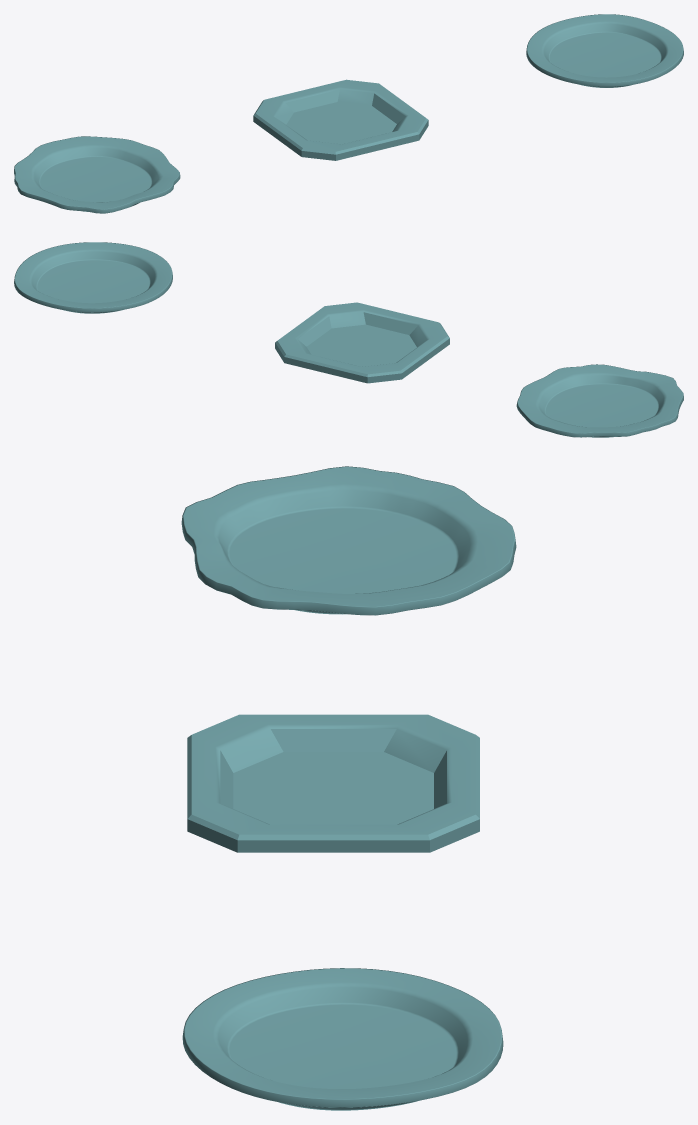
The model's file is sm_plates.fbx.
The picture shows the model from 3 angles, top to bottom: view 1: azimuth 30°, elevation 25°; view 2: azimuth 150°, elevation 25°; view 3: azimuth 270°, elevation 25°; orthographic projection. The views are drawn at different scales.
Visible parts, largest first — view 1: SM_PLATE_IA, SM_PLATE_ROCK, SM_PLATE_HUMAN; view 2: SM_PLATE_IA, SM_PLATE_ROCK, SM_PLATE_HUMAN; view 3: SM_PLATE_ROCK, SM_PLATE_IA, SM_PLATE_HUMAN.
Boxes of the visible parts, x1,y1,x2,y2 form: SM_PLATE_IA: [253, 79, 428, 160]; SM_PLATE_ROCK: [14, 136, 180, 213]; SM_PLATE_HUMAN: [526, 14, 683, 87]; SM_PLATE_IA: [275, 302, 449, 383]; SM_PLATE_ROCK: [516, 364, 683, 437]; SM_PLATE_HUMAN: [14, 242, 172, 313]; SM_PLATE_ROCK: [181, 466, 516, 615]; SM_PLATE_IA: [187, 714, 479, 852]; SM_PLATE_HUMAN: [182, 968, 503, 1110].
Bounding box in the file's own units: 167 × 3.96 × 37.18.
